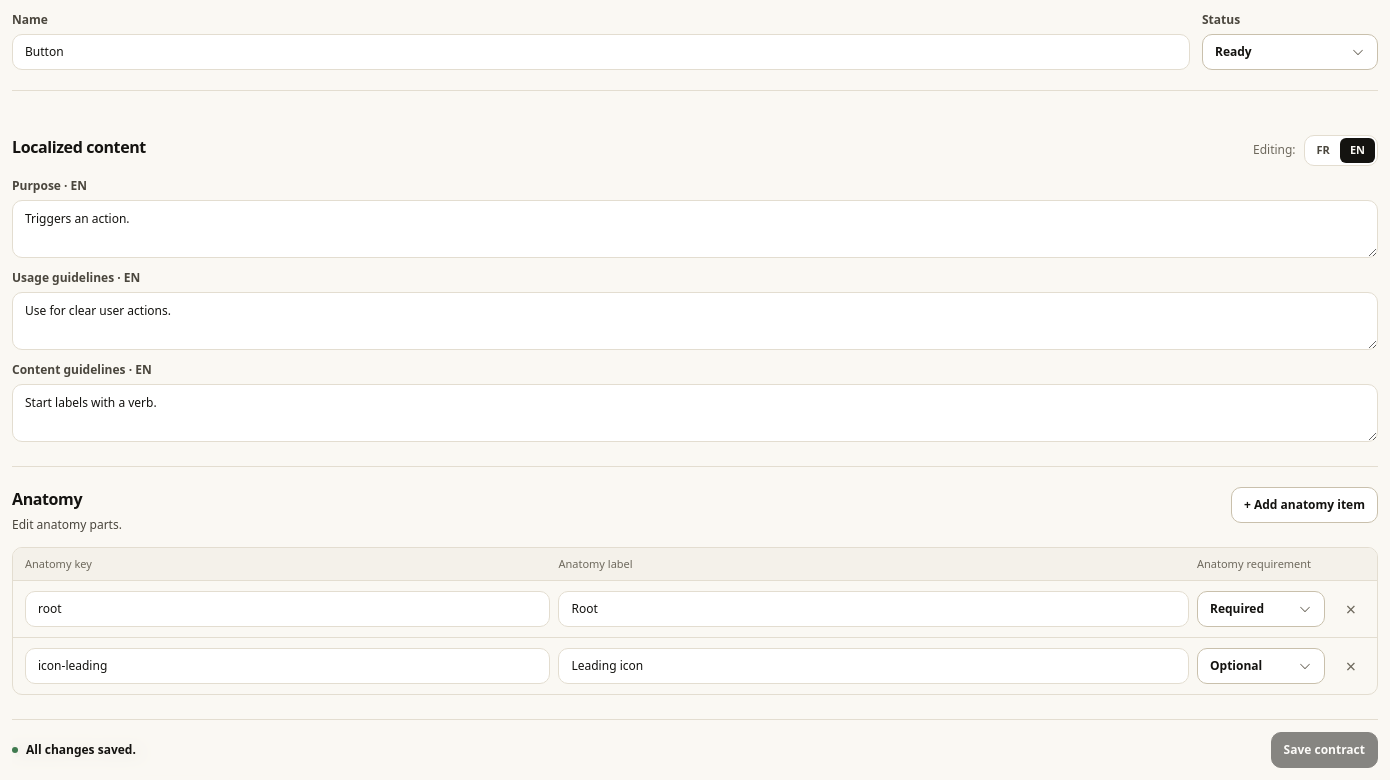
Scenario: ComponentContractEditor › switches localized content and anatomy labels together
The width and height of the screenshot is (1390, 780).
What coordinates should you click on to do the following:
click the button "FR"
I would click on:
 (1323, 150)
Its box is 1307,138 -> 1340,162.
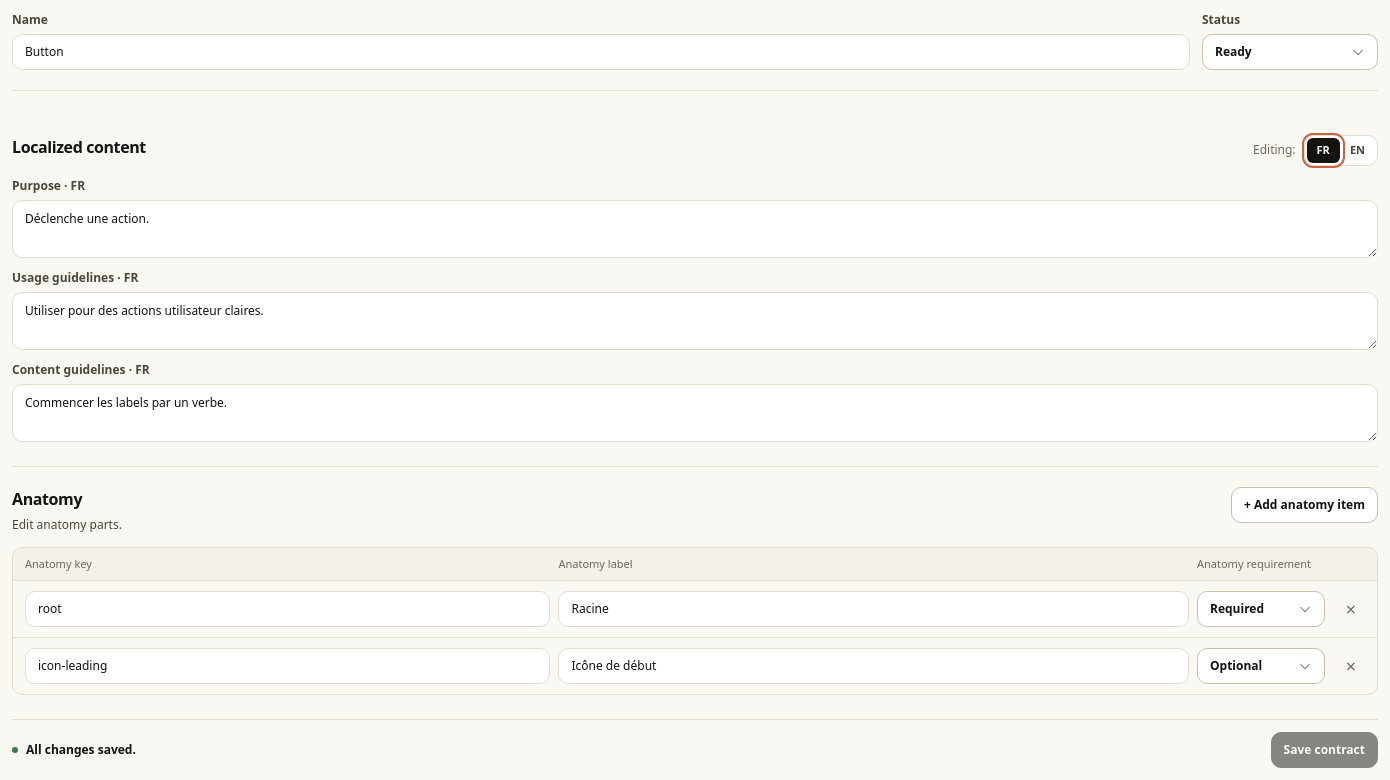
Expected: the text box labelled "Purpose · FR" holds "Déclenche une action.", 12,200 -> 1378,258
Expected: the text box labelled "Usage guidelines · FR" holds "Utiliser pour des actions utilisateur claires.", 12,292 -> 1378,350
Expected: the text box labelled "Content guidelines · FR" holds "Commencer les labels par un verbe.", 12,384 -> 1378,442
